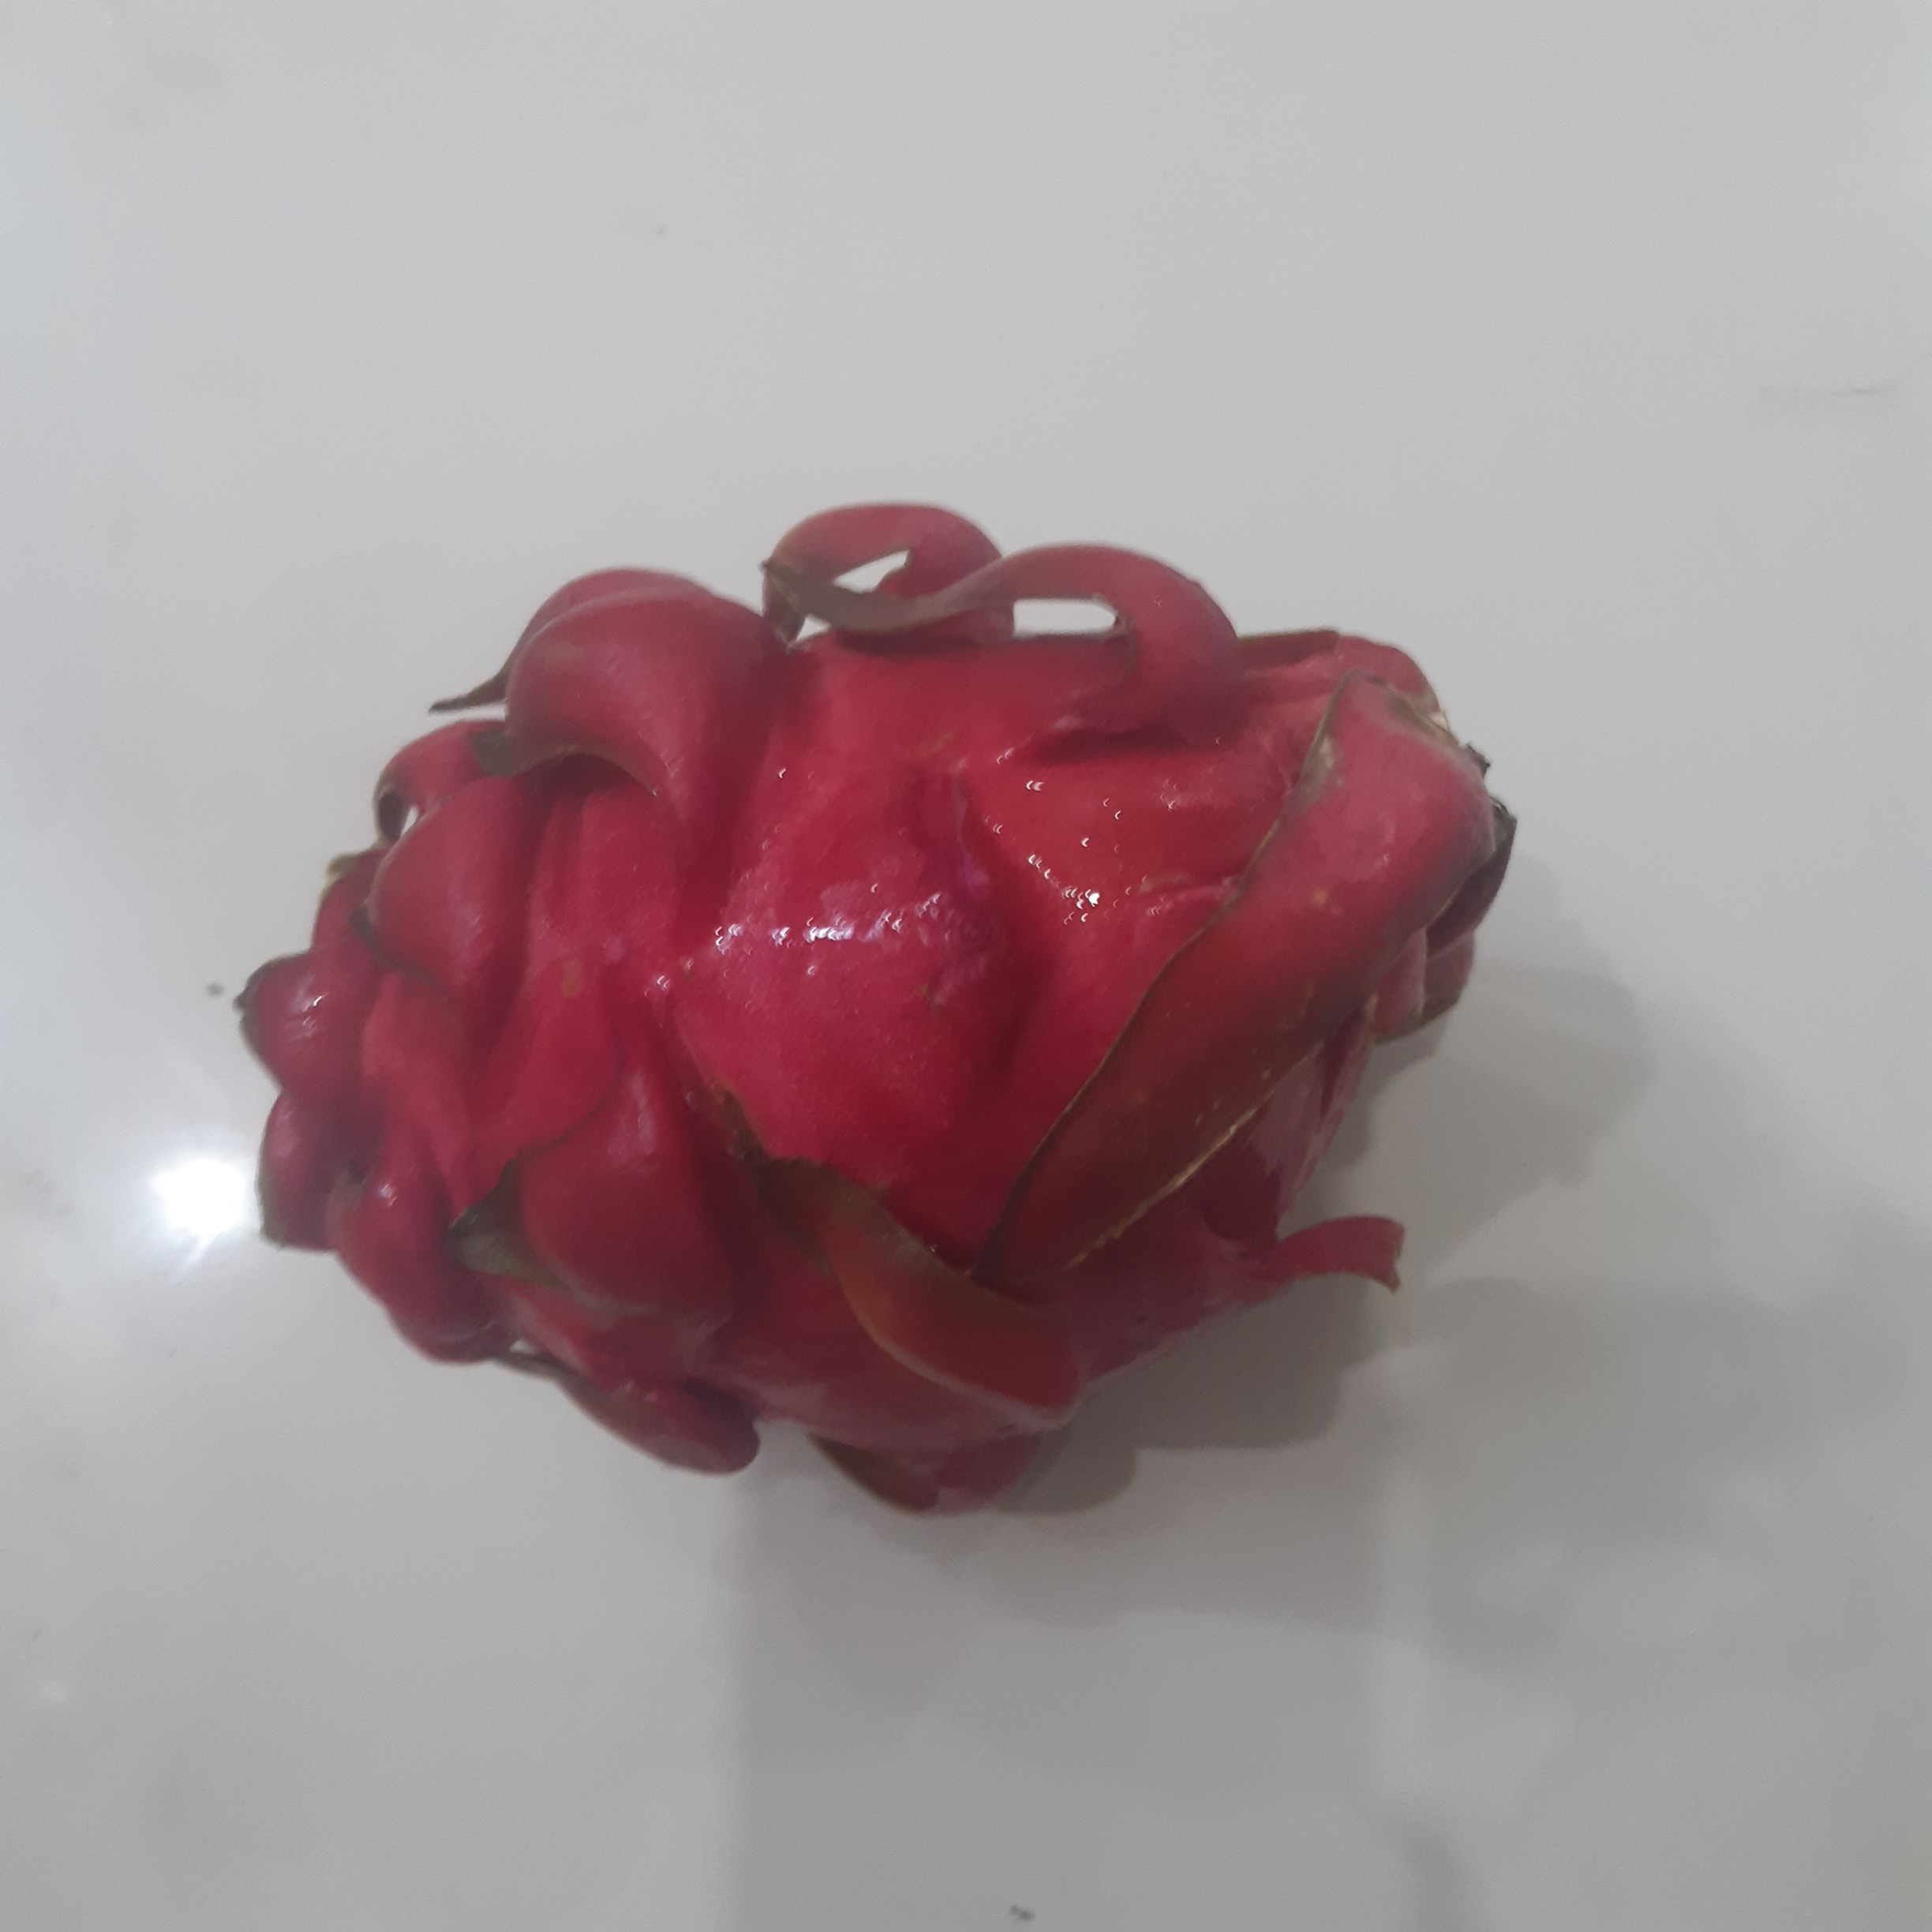Thanh long: (257, 559, 1499, 1458)
